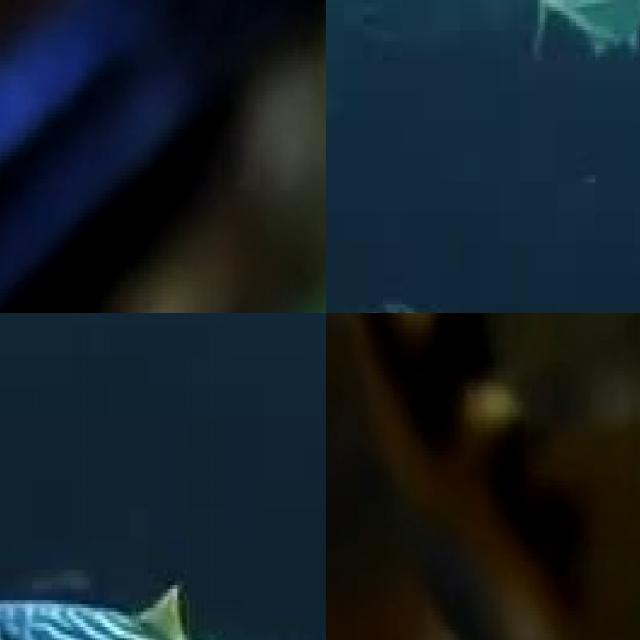fish: (326, 313, 640, 640), (0, 0, 326, 313)
